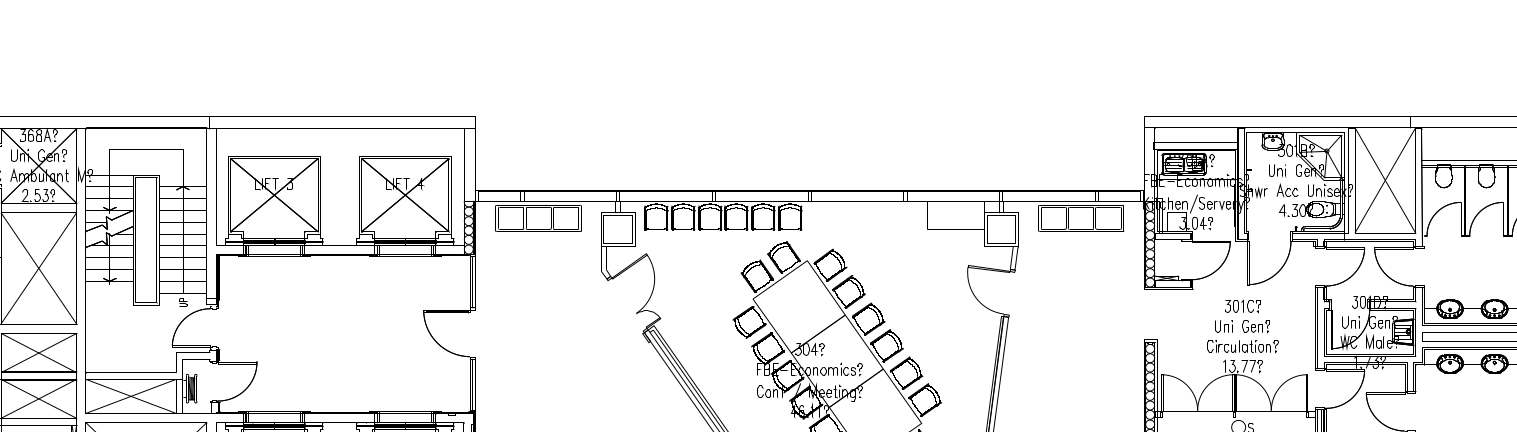door: (609, 248, 661, 331), (1159, 365, 1237, 418), (1235, 367, 1313, 420), (957, 261, 1017, 321), (423, 301, 470, 363), (1246, 236, 1293, 289), (1185, 238, 1236, 285), (1424, 194, 1463, 249), (1468, 196, 1507, 251), (1365, 385, 1406, 432), (1375, 246, 1416, 293), (1326, 243, 1367, 290), (168, 306, 211, 350), (217, 358, 260, 402), (1328, 366, 1366, 415)
